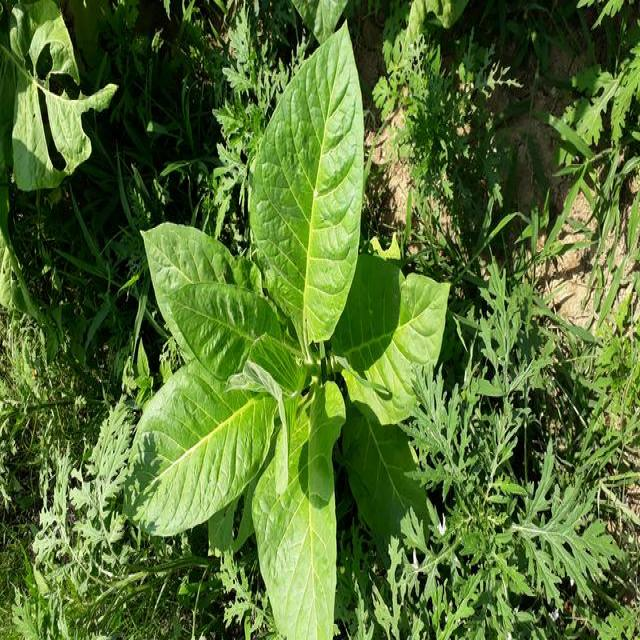crop: (140, 29, 442, 640), (0, 0, 117, 183)
